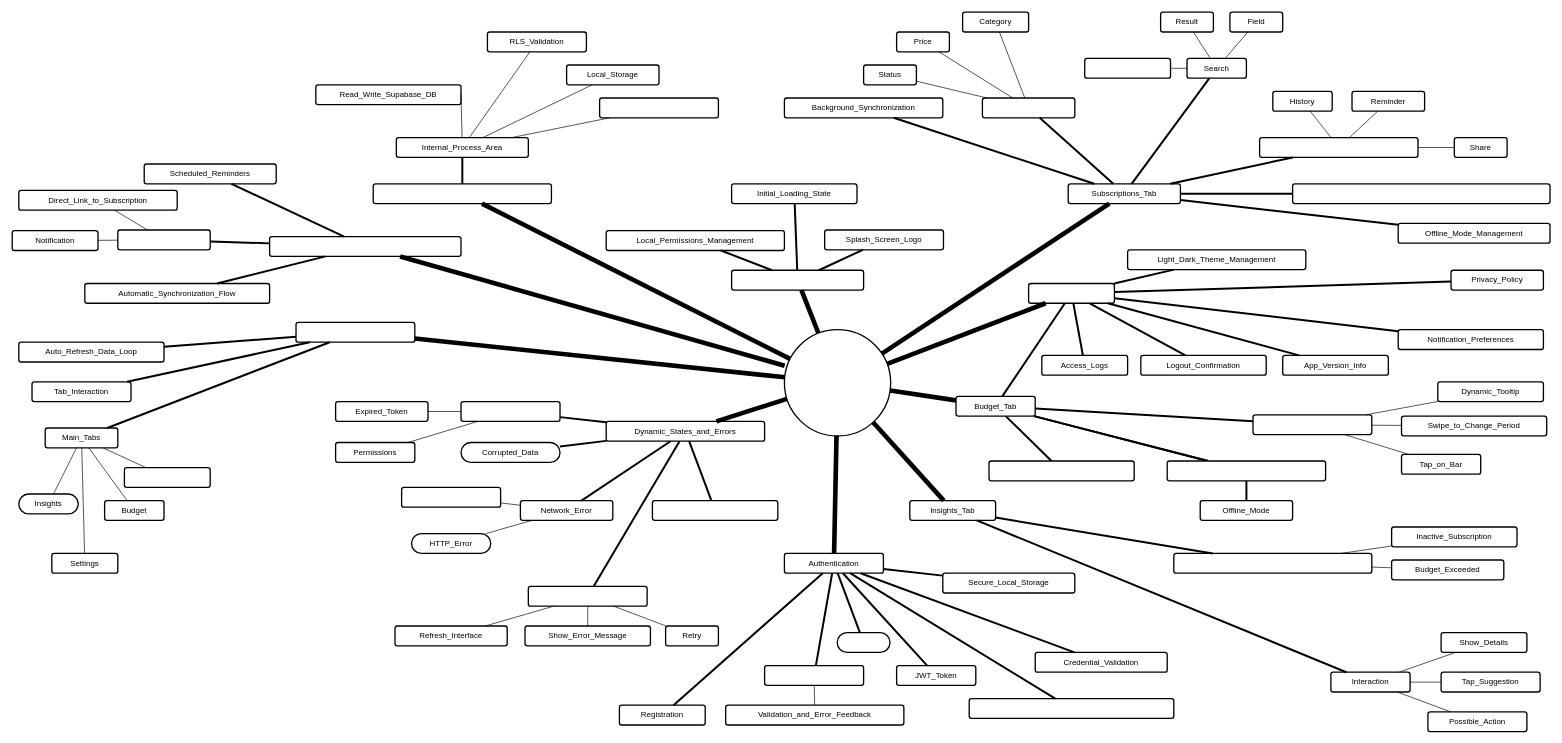
Image size: 1562x743. Some labels were removed from this diagram. Each missing label, with the centre of its shape:
"Access_and_Openness" belongs at pixel 797 279.
"Access_Denied" belongs at pixel 510 411.
"Active_Filters" belongs at pixel 1028 107.
"Automatic_Recovery" belongs at pixel 714 510.
"Automatic_Redirection_to_Dashboard" belongs at pixel 1071 708.
"Central_Dashboard" belongs at pixel 355 332.
"Direct_Subscription_Link" belongs at pixel 1061 470.
"Empty_State" belongs at pixel 1127 68.
"Error_Message_Flow" belongs at pixel 587 596.
"Graph_Interactions" belongs at pixel 1312 424.
"Loading_Error_Management" belongs at pixel 1246 470.
"Login" belongs at pixel 863 642.
"Long_Press_Context_Action" belongs at pixel 1338 147.
"Password_Reset" belongs at pixel 814 675.
"Recommendation_Generation_Logic" belongs at pixel 1272 563.
"Renewal_Alert" belongs at pixel 164 239.
"root" belongs at pixel 837 382.
"Settings_Tab" belongs at pixel 1071 293.
"State_Management" belongs at pixel 659 107.
"Subscriptions" belongs at pixel 167 477.
"Supabase_Error" belongs at pixel 451 497.
"Synchronization_and_Notifications" belongs at pixel 365 246.
"UI_Feedback_on_Creation_Modification_Deletion" belongs at pixel 1421 193.
"Underlying_Logical_Architecture" belongs at pixel 462 193.
